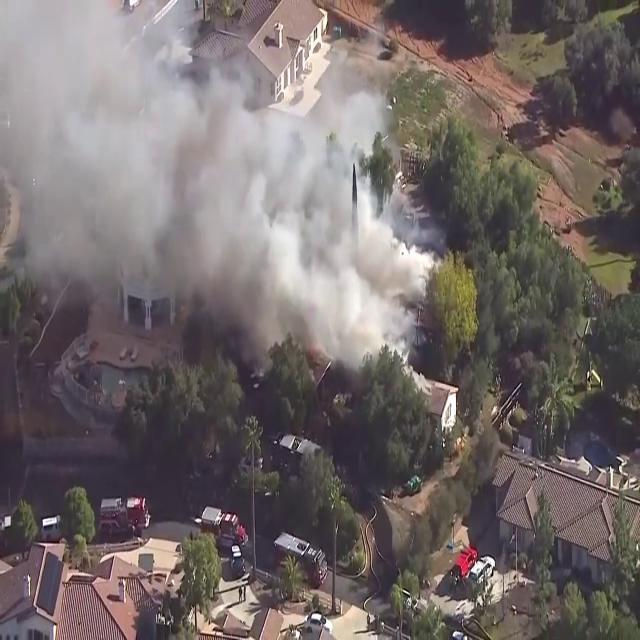Smoke: (0, 8, 430, 358)
